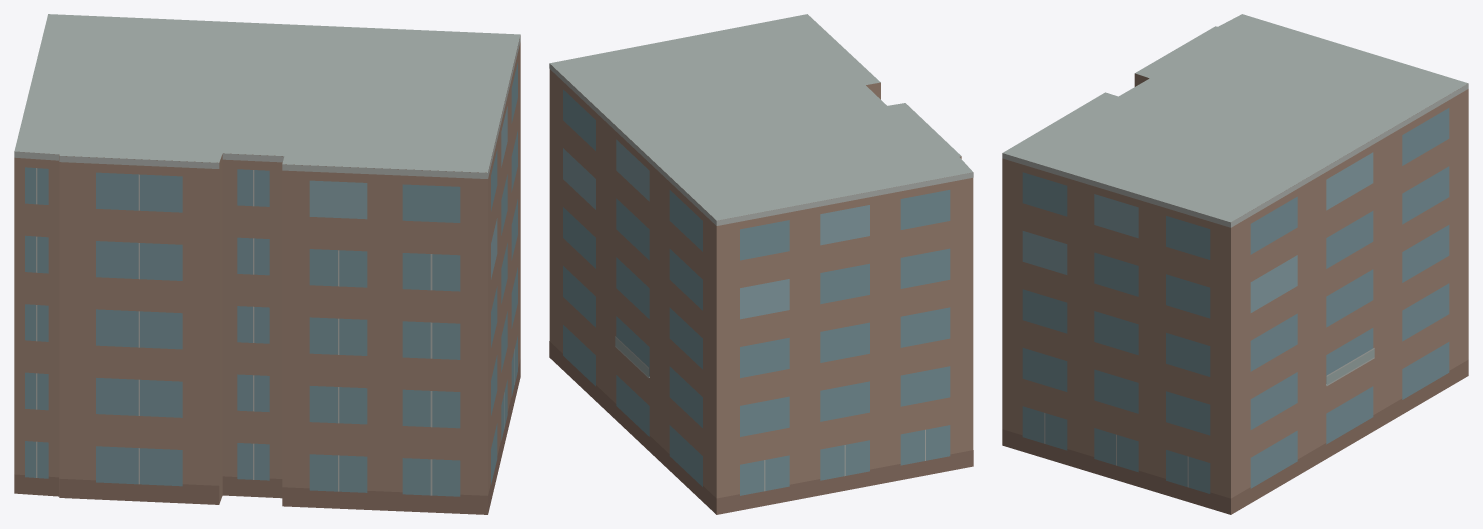
The model's file is survey-upis-32939096.glb.
3 renders of one model, left to right at view 1: azimuth 30°, elevation 25°; view 2: azimuth 150°, elevation 25°; view 3: azimuth 270°, elevation 25°, orthographic. The views are drawn at different scales.
Parts seen in each view (by area): view 1: survey-upis-32939096.tmp; view 2: survey-upis-32939096.tmp; view 3: survey-upis-32939096.tmp.
Part boxes in pixels (bbox=[...]): survey-upis-32939096.tmp: bbox=[14, 14, 520, 514]; survey-upis-32939096.tmp: bbox=[549, 14, 973, 514]; survey-upis-32939096.tmp: bbox=[1002, 14, 1468, 514].
Bounding box in the file's own units: 20.26 × 13.25 × 19.15.
